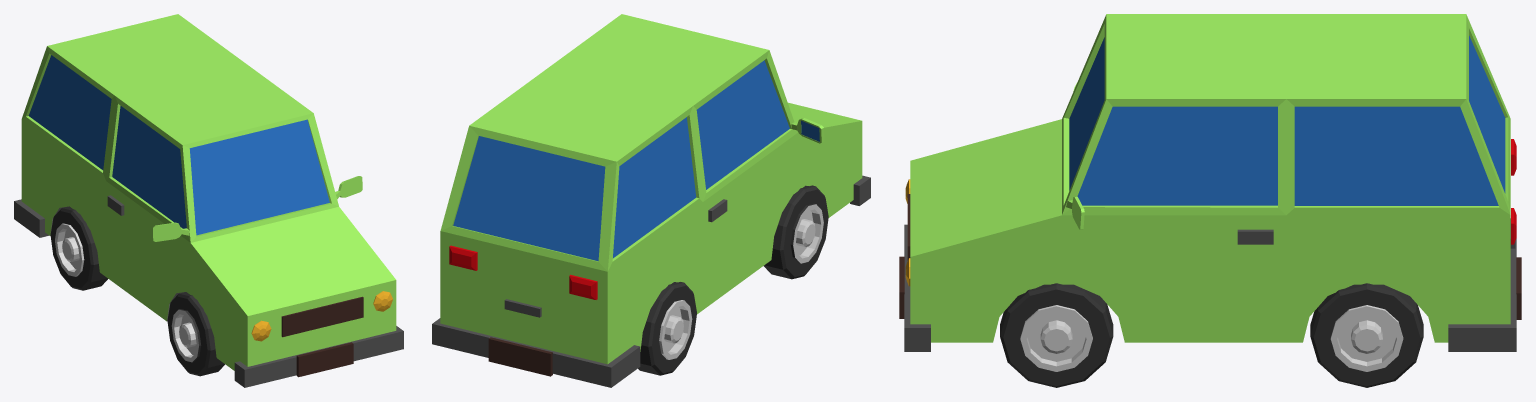
File: model4carEdit.fbx
3 views of the same model, side by side, from view 1: azimuth 30°, elevation 25°; view 2: azimuth 150°, elevation 25°; view 3: azimuth 270°, elevation 25° (orthographic). The views are drawn at different scales.
Parts seen in each view (by area): view 1: car, BRtyre, FRtyre; view 2: car, FRtyre, BRtyre; view 3: car, BLtyre, FLtyre.
Part boxes in pixels (x1=…): car: x1=14, y1=14, x2=403, y2=387; BRtyre: x1=50, y1=206, x2=107, y2=290; FRtyre: x1=167, y1=292, x2=224, y2=376; car: x1=432, y1=14, x2=870, y2=387; FRtyre: x1=764, y1=185, x2=828, y2=279; BRtyre: x1=638, y1=282, x2=696, y2=375; car: x1=899, y1=14, x2=1521, y2=351; BLtyre: x1=1310, y1=283, x2=1423, y2=387; FLtyre: x1=1000, y1=283, x2=1113, y2=387.
Size of the model in its own units: 1.07 by 1.04 by 2.07.
